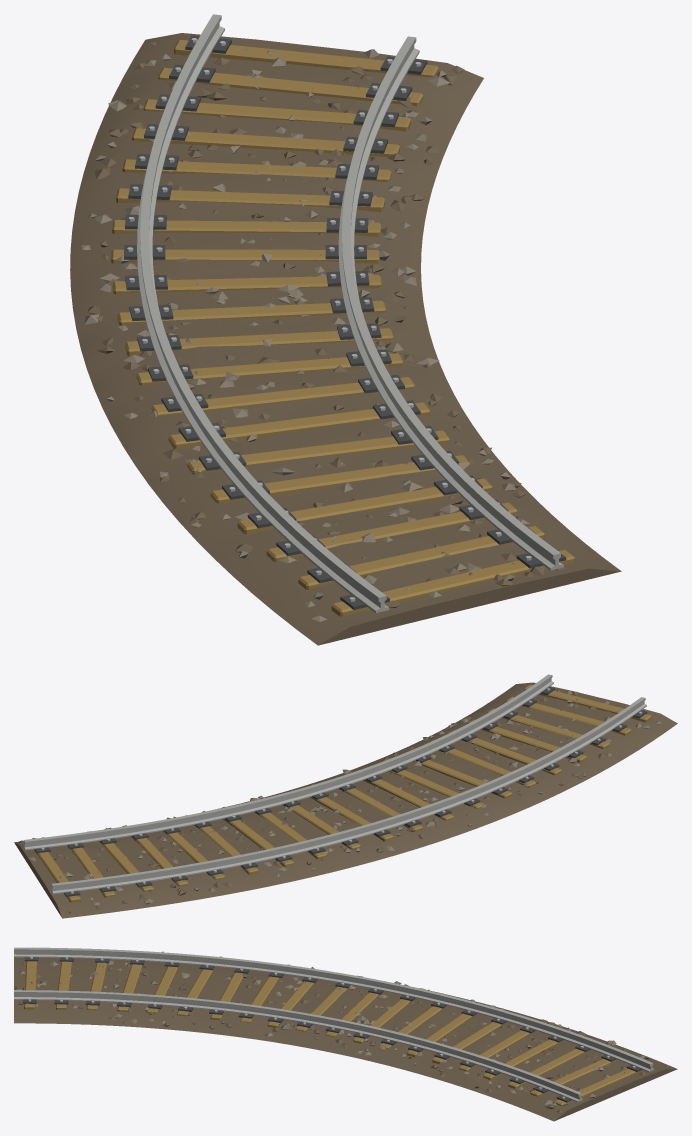
File: legacy-curved-rail-ne.glb
3 renders of one model, top to bottom at view 1: azimuth 30°, elevation 25°; view 2: azimuth 150°, elevation 25°; view 3: azimuth 270°, elevation 25°, orthographic. The views are drawn at different scales.
Visible parts, largest first — view 1: body; view 2: body; view 3: body.
Boxes of the visible parts, x1,y1,x2,y2 form: body: (70,14,621,645); body: (14,674,677,918); body: (14,947,677,1121).
Bounding box in the file's own units: 4.74 × 0.2157 × 7.72.
